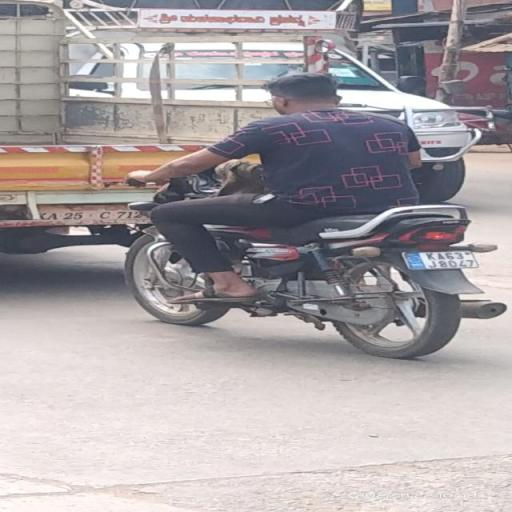bike: (121, 63, 508, 359)
numberplate: (398, 246, 484, 274)
withouthelmet: (268, 74, 338, 112)
